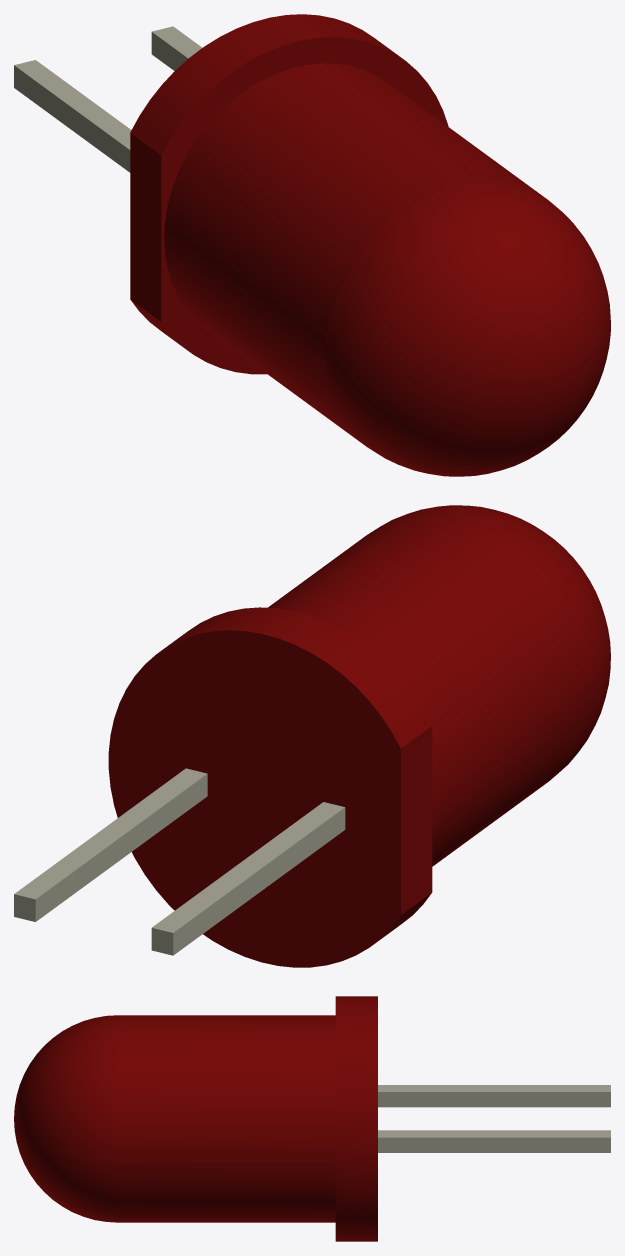
Rendered from led_d5.0mm.glb.
The picture shows the model from 3 angles, top to bottom: view 1: azimuth 30°, elevation 25°; view 2: azimuth 150°, elevation 25°; view 3: azimuth 270°, elevation 25°; orthographic projection. The views are drawn at different scales.
Visible parts, largest first — view 1: LED_D5.0mm; view 2: LED_D5.0mm; view 3: LED_D5.0mm.
Boxes of the visible parts, left/top/right/bottom form: LED_D5.0mm: left=14, top=14, right=610, bottom=476; LED_D5.0mm: left=14, top=505, right=610, bottom=967; LED_D5.0mm: left=14, top=996, right=610, bottom=1241.
Size of the model in its own units: 5.4 by 5.8 by 14.1.
